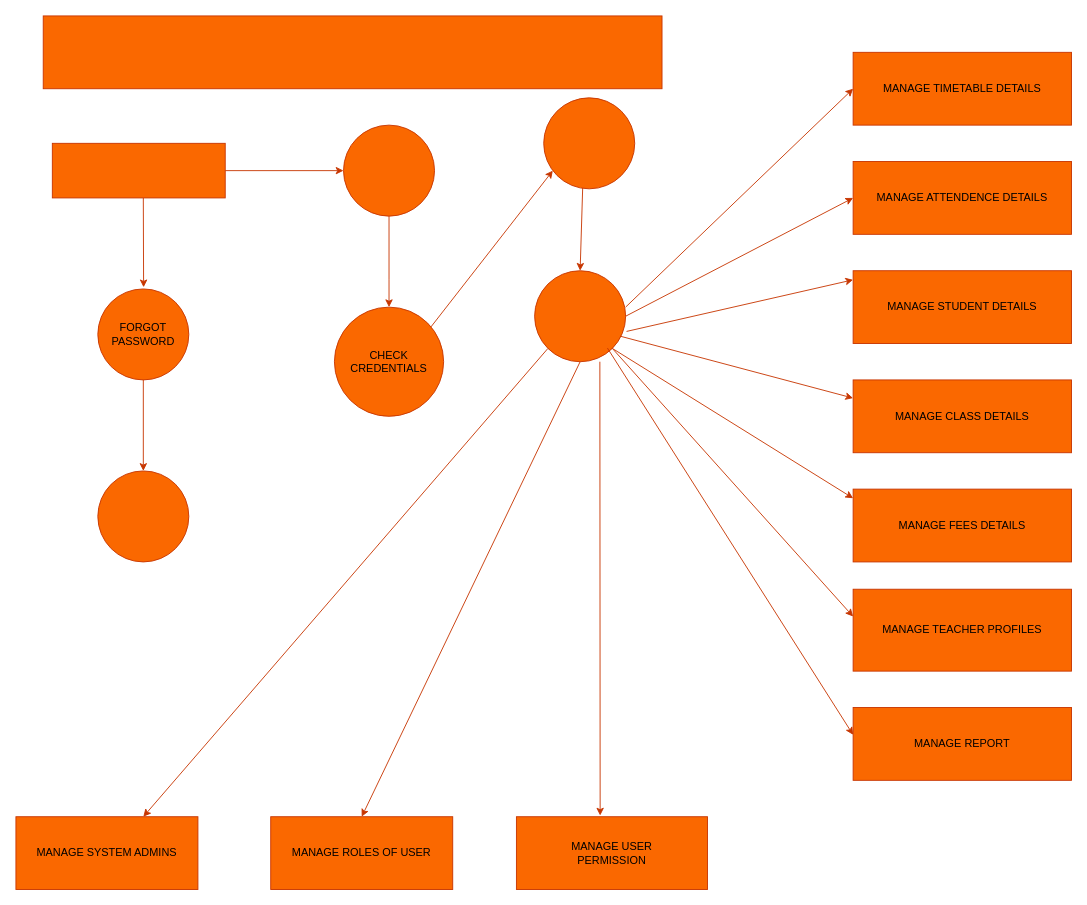
The diagram is 1087 pixels wide and 905 high, and some of its shapes have lost their labels. Here are the shapes that lost their labels. From the top down, the centre of each, then its label:
At point (352, 52): "STUDENT INFORMATION SYSTEM".
At point (589, 143): "CHACK ROLES OF ACCESS".
At point (138, 170): "ADMIN".
At point (389, 170): "LOGIN TO SYSTEM".
At point (580, 316): "MANAGE MODULES".
At point (143, 516): "SEND EMAIL TO USER".
